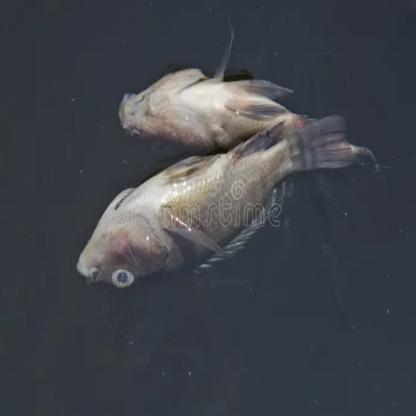deceased fish: (74, 116, 357, 290), (113, 29, 384, 174)
